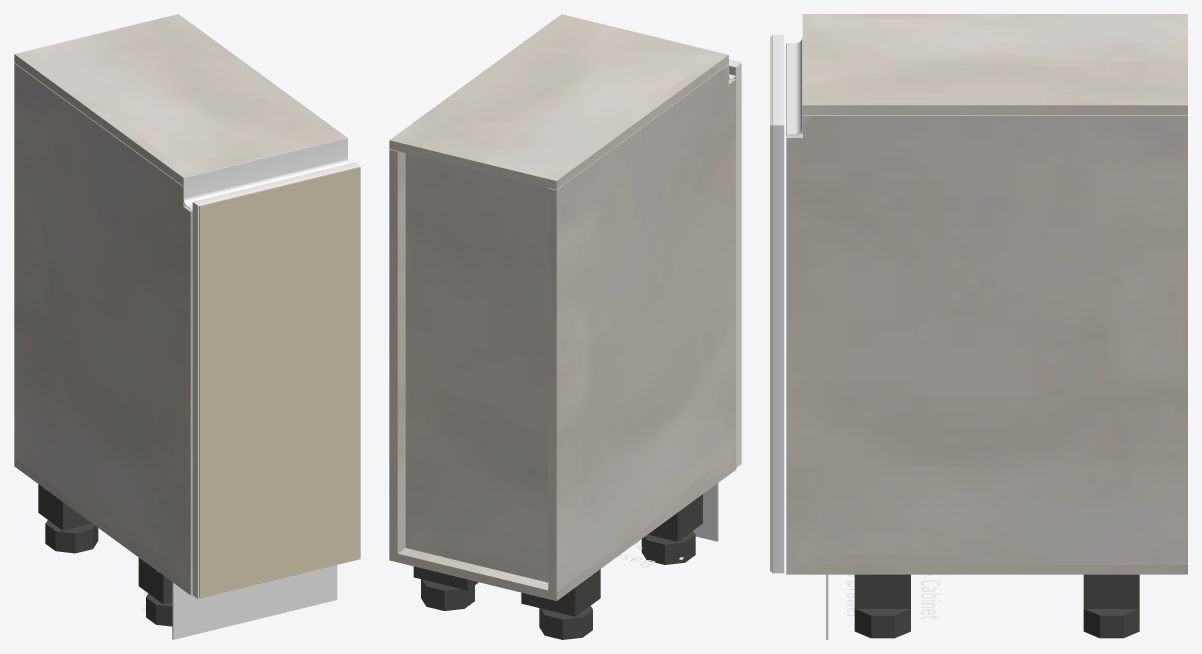
Rendered from BASE CABINET 1 HB DRAWER WASTE BIN 30 LTR (H720xW300xD560) BC1EHWB30.glb.
3 views of the same model, side by side, from view 1: azimuth 30°, elevation 25°; view 2: azimuth 150°, elevation 25°; view 3: azimuth 270°, elevation 25° (orthographic). The views are drawn at different scales.
Size of what is drawn, in the model's own units: 0.3 by 0.82 by 0.5809.
6 materials, 1 textured.
